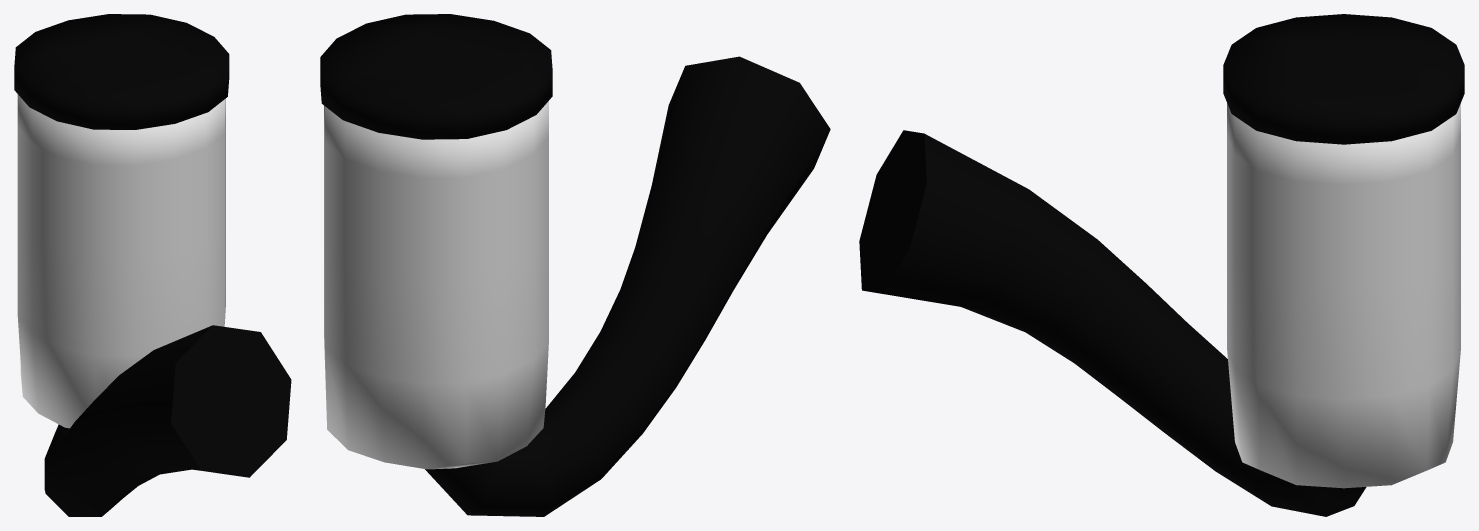
File: Water Pack.glb
3 views of the same model, side by side, from view 1: azimuth 30°, elevation 25°; view 2: azimuth 150°, elevation 25°; view 3: azimuth 270°, elevation 25° (orthographic). The views are drawn at different scales.
Visible parts, largest first — view 1: WaterContainer; view 2: WaterContainer; view 3: WaterContainer.
Part boxes in pixels (x1=…): WaterContainer: x1=14, y1=14, x2=291, y2=516; WaterContainer: x1=320, y1=14, x2=830, y2=516; WaterContainer: x1=859, y1=14, x2=1464, y2=516.
Size of the model in its own units: 0.2126 by 0.3391 by 0.3943.
Materials: 3 (1 with a texture image).
